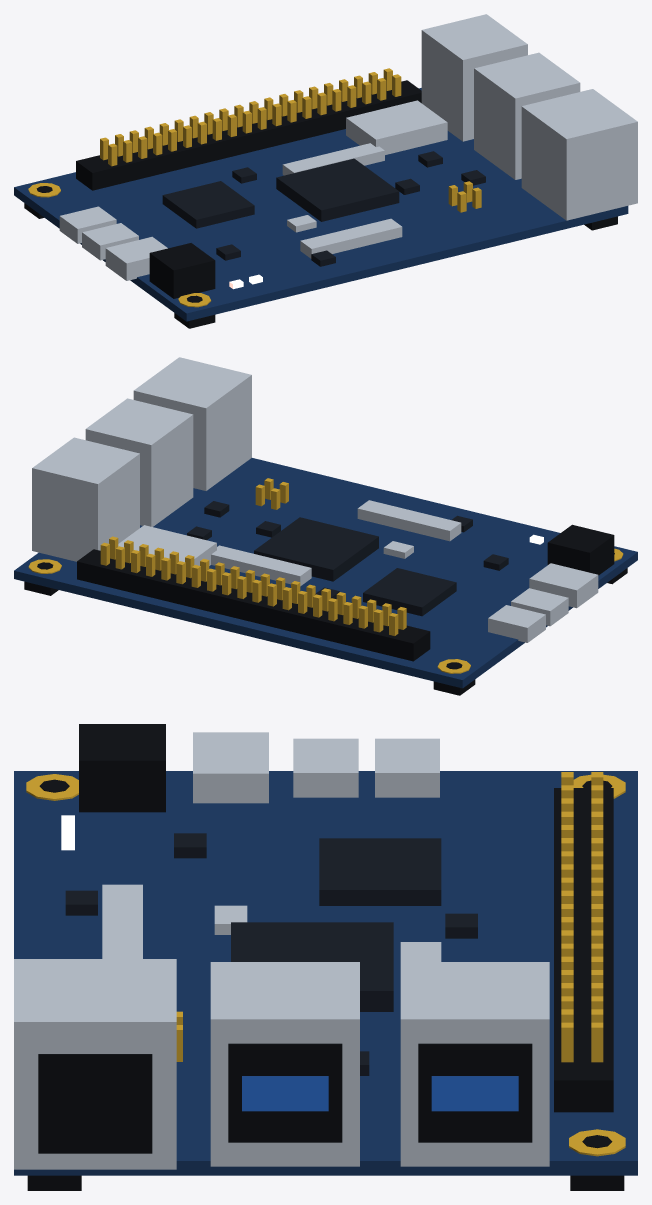
Rendered from dev-board.glb.
3 views of the same model, one above another, from view 1: azimuth 30°, elevation 25°; view 2: azimuth 150°, elevation 25°; view 3: azimuth 270°, elevation 25° (orthographic). The views are drawn at different scales.
Parts seen in each view (by area): view 1: pcb, ethernet, gpioBase, usb0, usb1, soc, wifiCan, avJack, ram, csi, usbc, dsi (+2 smaller); view 2: pcb, usb0, gpioBase, ethernet, usb1, soc, ram, avJack, csi, usbc, wifiCan, dsi (+2 smaller); view 3: pcb, ethernet, usb0, usb1, gpioBase, ethHole, usbHole0, usbHole1, ram, soc, avJack, usbc (+14 smaller).
Boxes of the visible parts, box(x1,y1,x2,y2) form: pcb: box(14, 88, 628, 321); ethernet: box(521, 89, 637, 220); gpioBase: box(76, 80, 421, 190); usb0: box(421, 14, 527, 141); usb1: box(474, 52, 580, 179); soc: box(276, 158, 399, 221); wifiCan: box(346, 100, 447, 154); avJack: box(149, 243, 215, 298); ram: box(162, 181, 254, 228); csi: box(300, 218, 402, 258); usbc: box(105, 236, 167, 280); dsi: box(282, 143, 384, 175); pcb: box(14, 458, 637, 688); usb0: box(32, 437, 139, 561); gpioBase: box(77, 549, 430, 661); ethernet: box(133, 357, 251, 490); usb1: box(85, 398, 193, 526); soc: box(254, 517, 378, 581); ram: box(363, 568, 456, 616); avJack: box(547, 524, 614, 575); csi: box(357, 500, 461, 541); usbc: box(529, 563, 598, 608); wifiCan: box(118, 525, 216, 565); dsi: box(211, 545, 311, 586); pcb: box(14, 771, 637, 1175); ethernet: box(14, 959, 176, 1169); usb0: box(400, 962, 549, 1166); usb1: box(210, 962, 359, 1166); gpioBase: box(554, 788, 613, 1112); ethHole: box(38, 1054, 152, 1153); usbHole0: box(418, 1043, 532, 1142); usbHole1: box(228, 1043, 342, 1142); ram: box(319, 838, 441, 905); soc: box(231, 922, 393, 1011); avJack: box(79, 724, 165, 812); usbc: box(193, 732, 268, 803).
Size of the model in its own units: 3.57 by 0.745 by 2.3.
